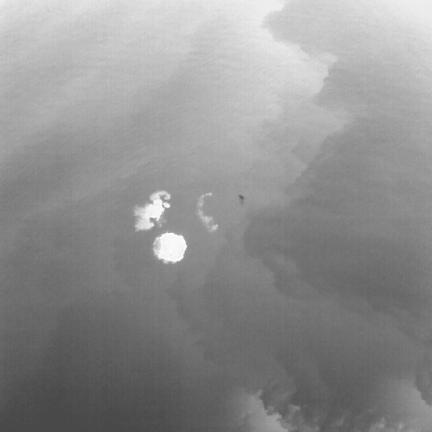flukeprints: (135, 191, 170, 230), (155, 232, 186, 262)
